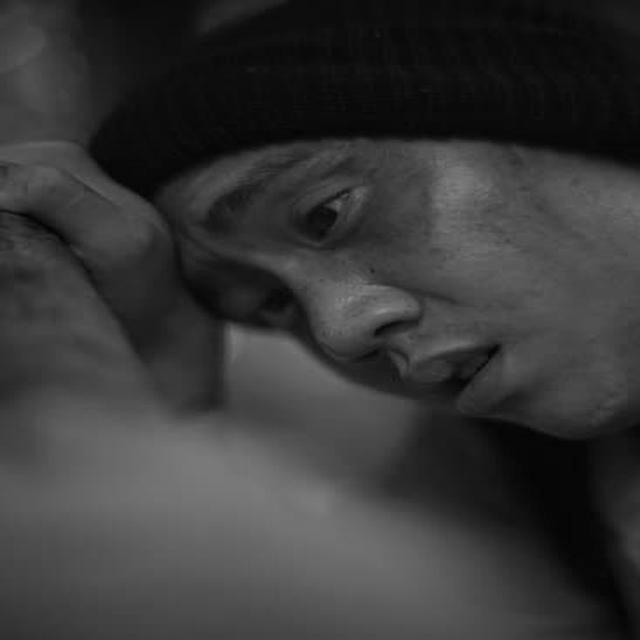Sadness: (166, 140, 640, 445)
